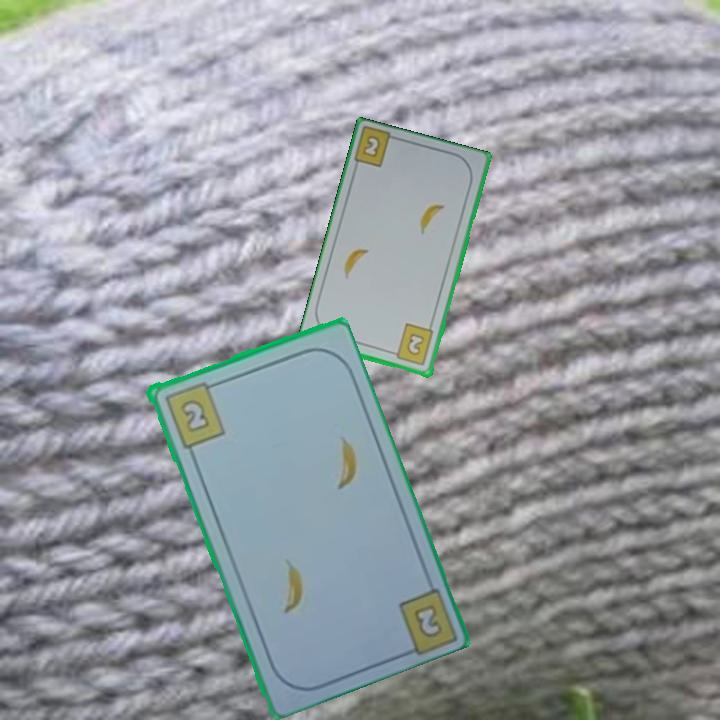2b: (160, 378, 228, 451), (387, 321, 436, 369), (409, 600, 445, 641), (359, 132, 383, 161)
